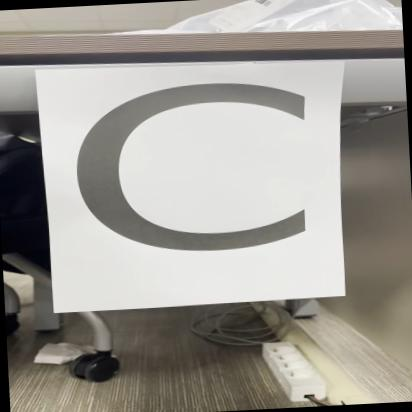seat: (39, 52, 348, 312)
